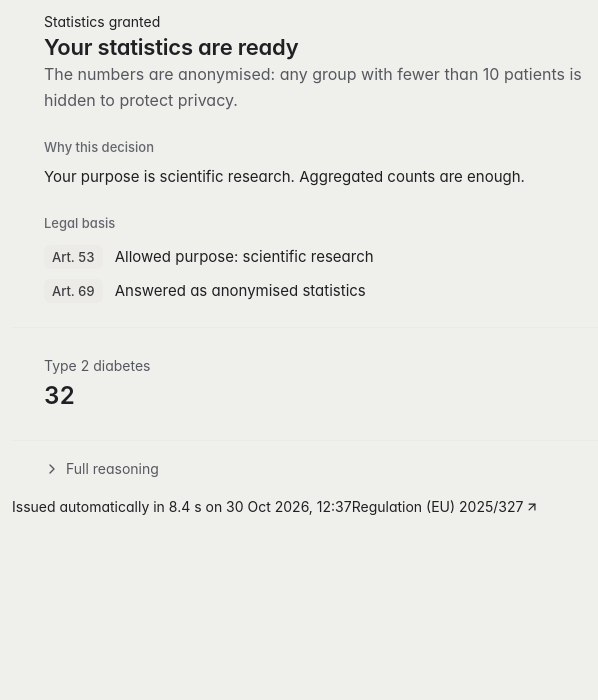
Test: DecisionLetter: full reasoning › hides the reason again when closed
The image size is (598, 700).
Click the button "Full reasoning".
click(101, 469)  # box [36,453,167,485]
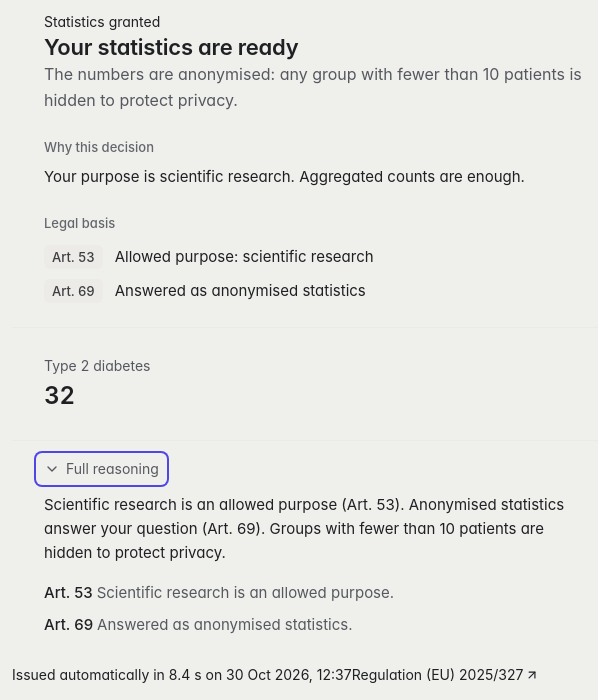
Click the button "Full reasoning".
click(101, 469)  # box [36,453,167,485]
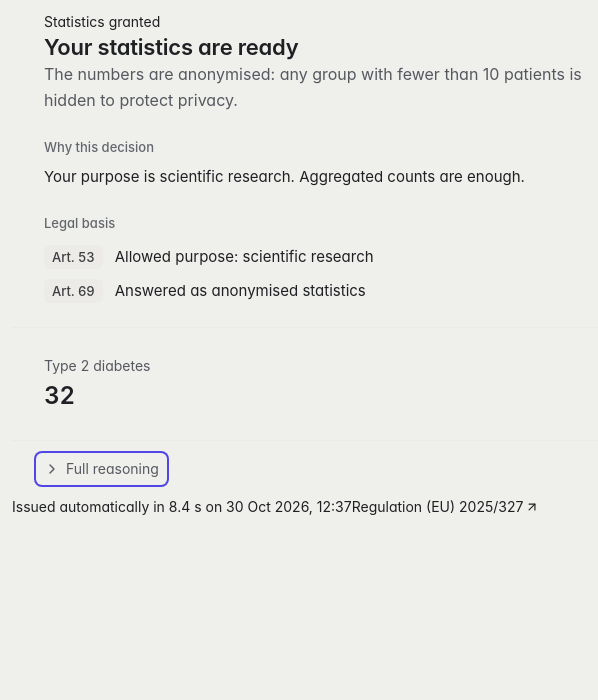
Expected: the text "Scientific research is an allowed purpose (Art. 53). Anonymised statistics answer your question (Art. 69). Groups with f" is gone
